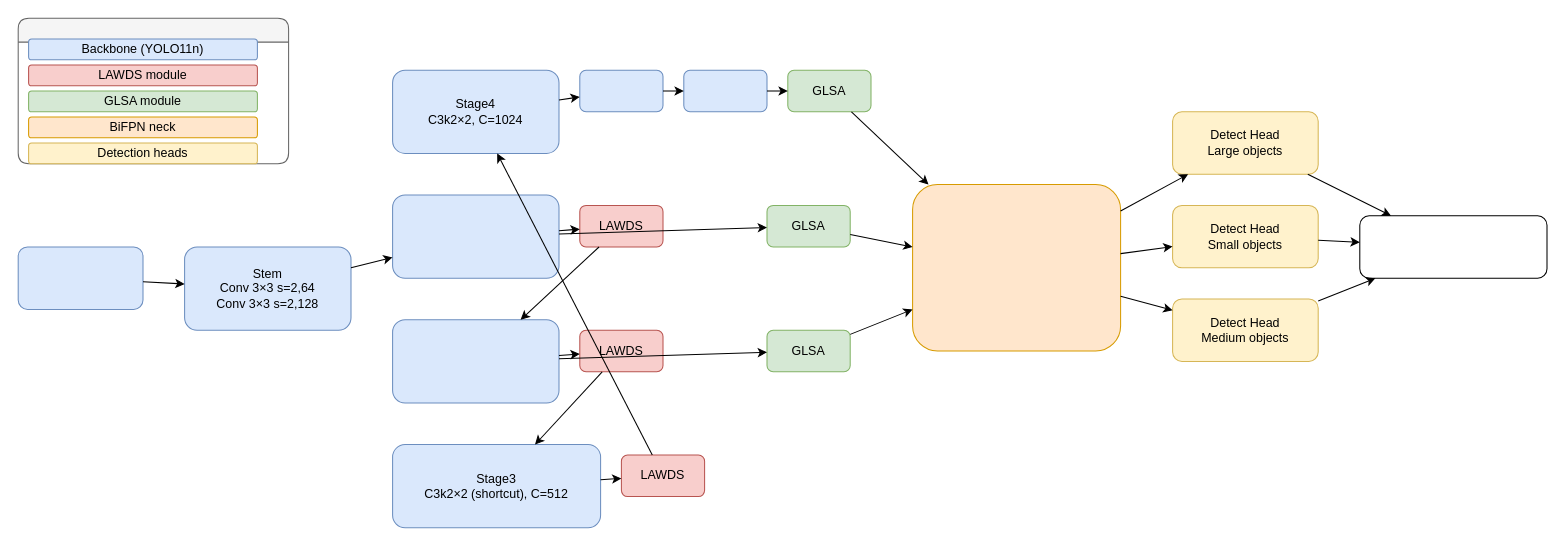
Image size: 1565x546. Some labels were removed from this diagram. The box of each missing label's shape, as (x1, y1, x2, y2) in pixels:
BiFPN Neck Upsample + Fusion + C3k2: (912, 184, 1121, 351)
C2PSA: (683, 69, 767, 112)
Detection Results (bbox, cls, conf): (1359, 215, 1547, 278)
Input 640×640×3: (17, 246, 143, 309)
Legend: (17, 17, 289, 164)
SPPF: (579, 69, 663, 112)
Stage1 C3k2×2, C=256: (392, 194, 559, 278)
Stage2 C3k2×2, C=512: (392, 319, 559, 403)
